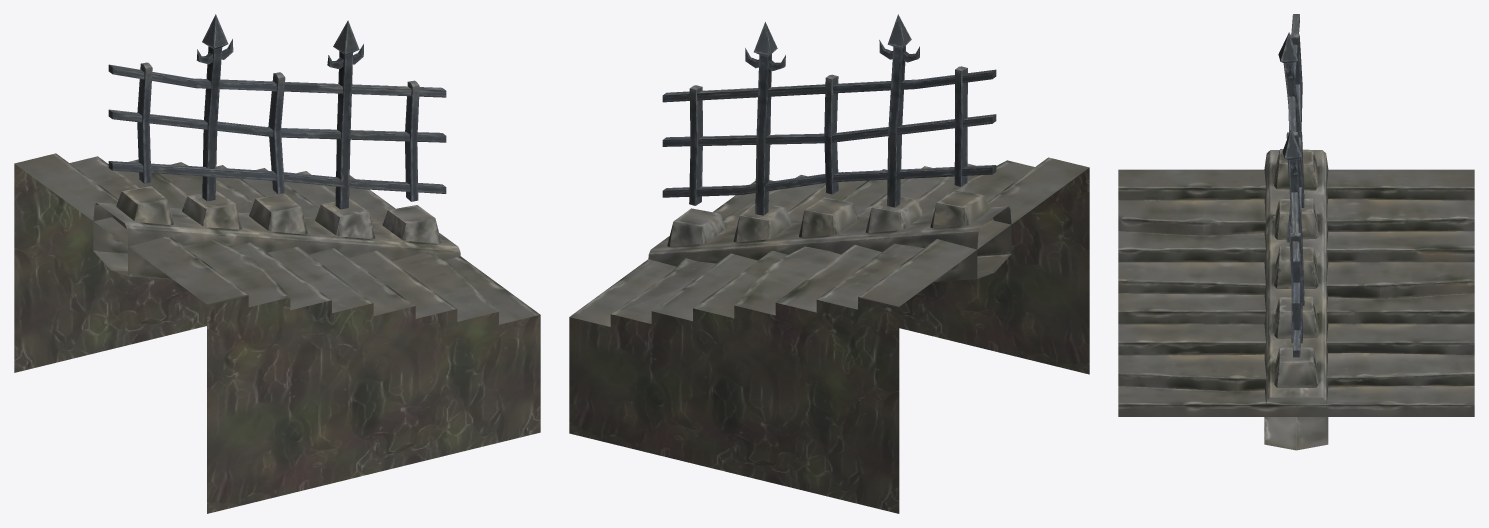
Rendered from Stairs_high_handrail_center.obj.
3 views of the same model, side by side, from view 1: azimuth 30°, elevation 25°; view 2: azimuth 150°, elevation 25°; view 3: azimuth 270°, elevation 25° (orthographic). The views are drawn at different scales.
Visible parts, largest first — view 1: Stairs_high_handrail_center; view 2: Stairs_high_handrail_center; view 3: Stairs_high_handrail_center.
Boxes of the visible parts, x1,y1,x2,y2 form: Stairs_high_handrail_center: (14, 14, 540, 513); Stairs_high_handrail_center: (569, 14, 1089, 513); Stairs_high_handrail_center: (1118, 14, 1474, 450).
Bounding box in the file's own units: 10 × 11.68 × 10.
